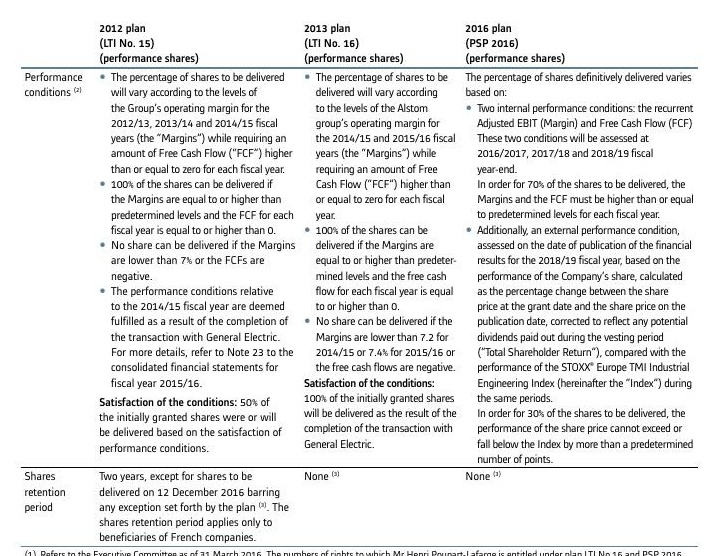table: (0, 0, 718, 556)
